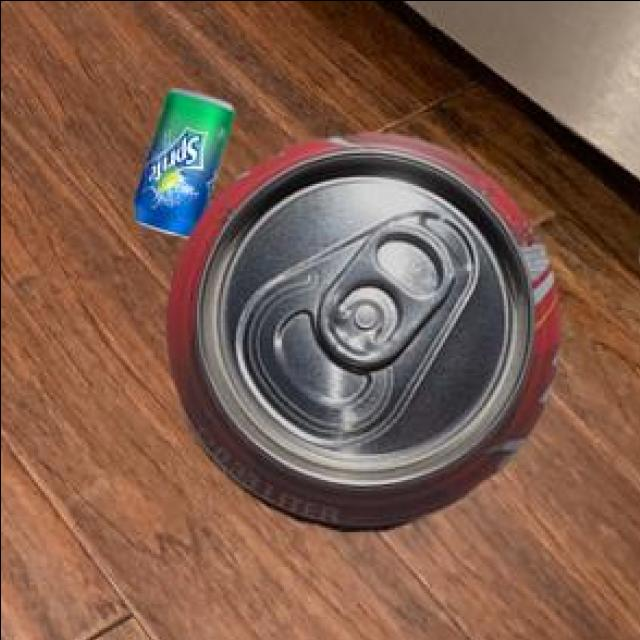logam: (164, 130, 556, 528), (132, 84, 230, 234)
